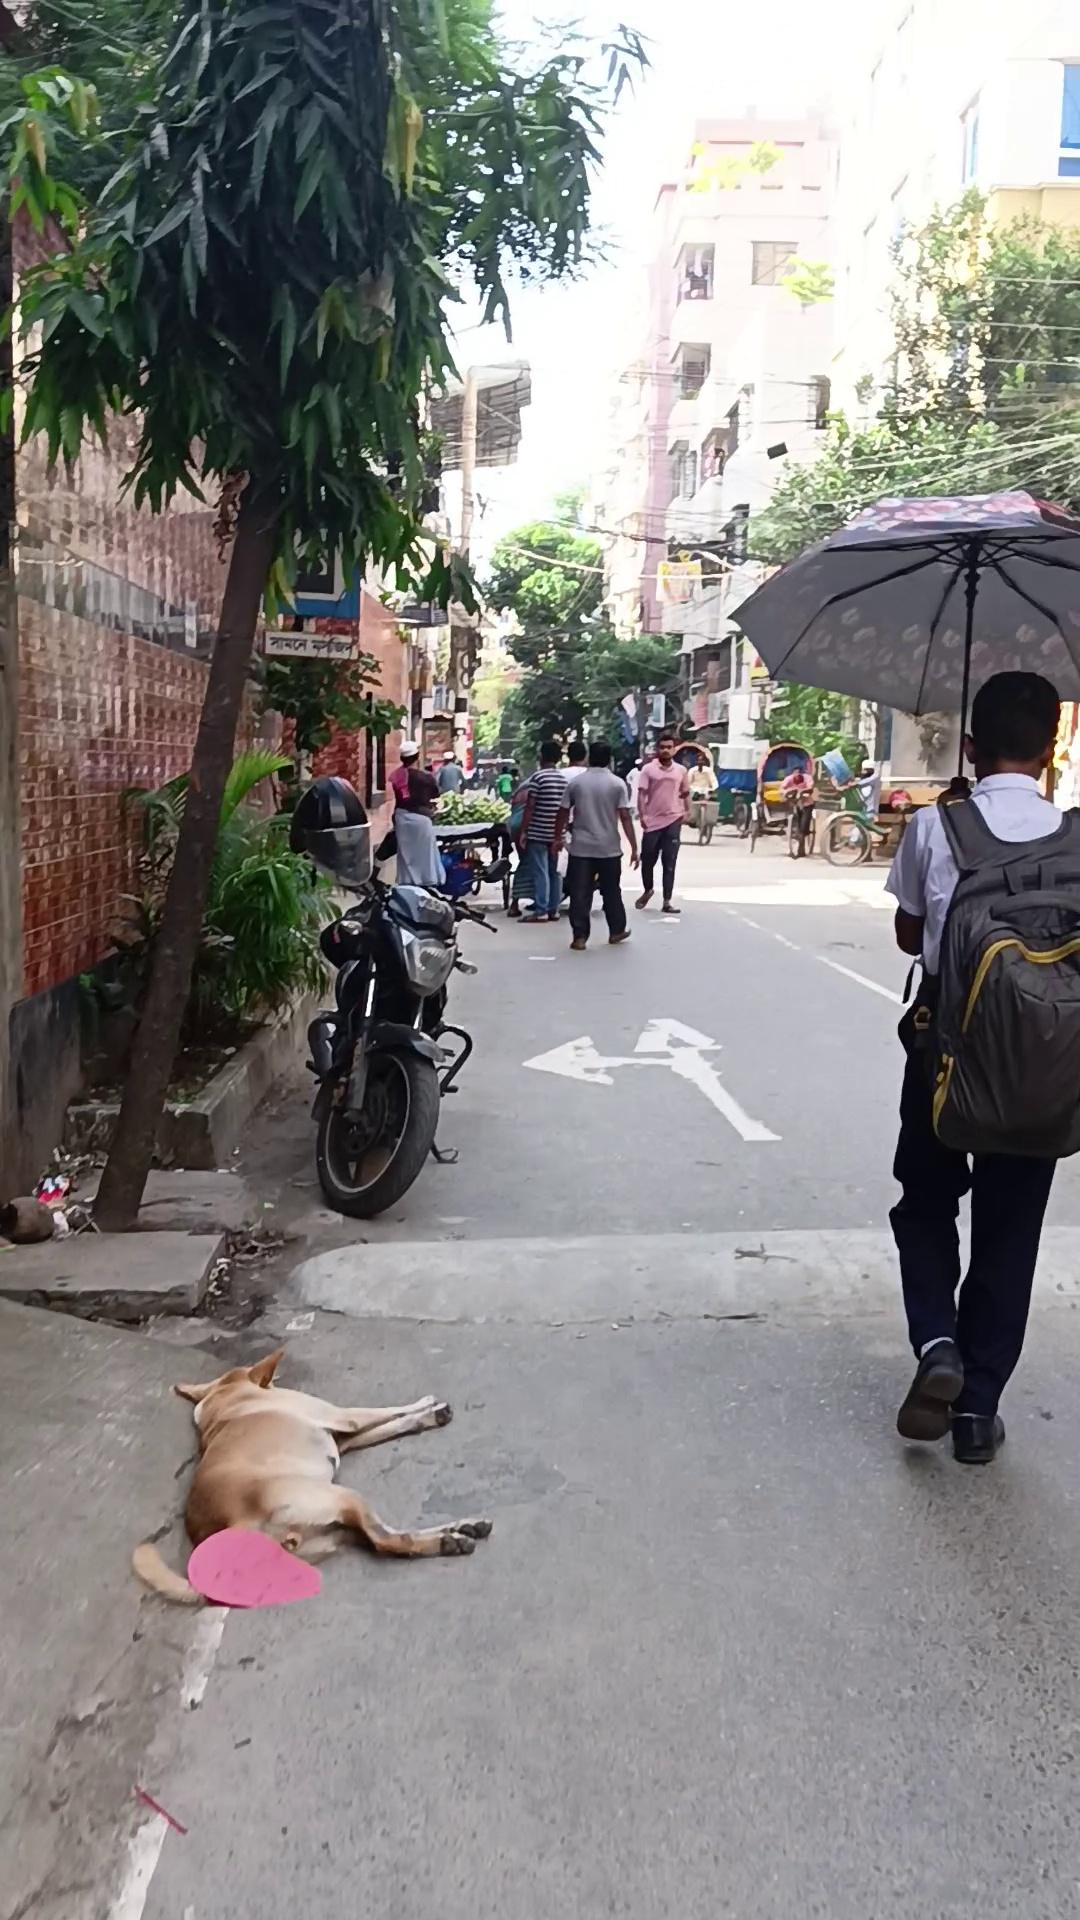Construction-barrier: (520, 1013, 782, 1147)
Crosswalk: (284, 1222, 1076, 1327), (63, 973, 323, 1172), (1, 1225, 228, 1324)
Curb: (131, 1342, 492, 1607)
Light-pole: (285, 774, 498, 1218)
Muddy road: (882, 669, 1079, 1464), (554, 741, 640, 949), (506, 740, 568, 922), (633, 733, 691, 913), (832, 757, 881, 860)
Obstacle: (84, 465, 291, 1232)
Pothole: (745, 740, 818, 858), (670, 741, 721, 845)
Stuck-water: (262, 629, 357, 659)
